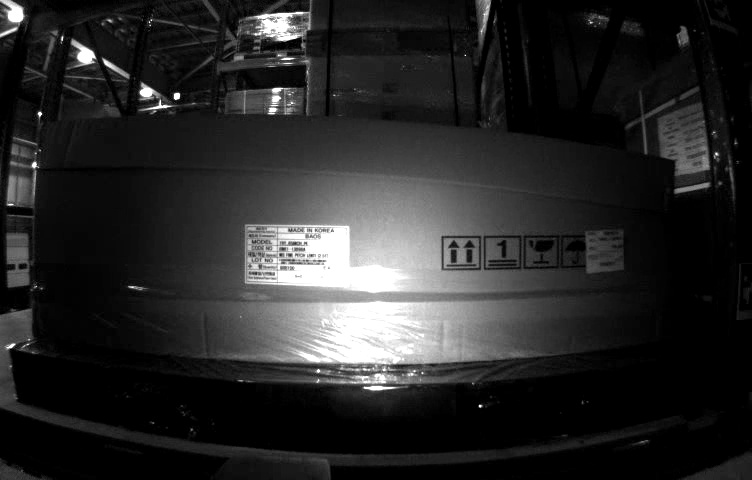True Barcode: (583, 228, 625, 273)
